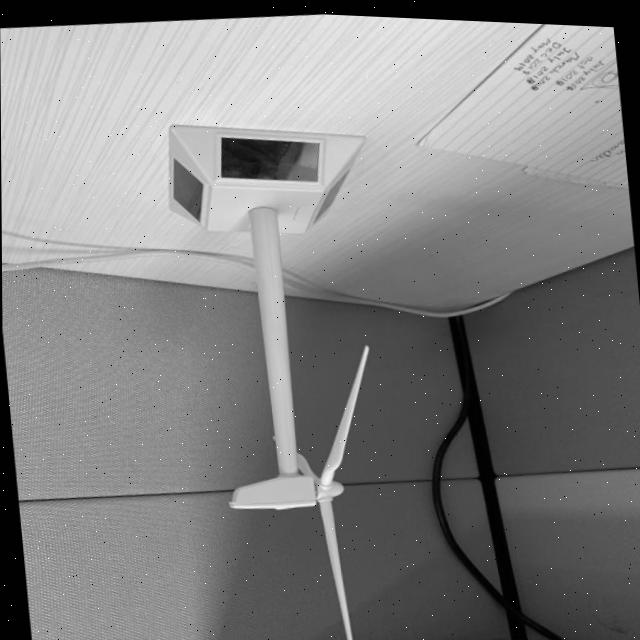solid-blade: (319, 341, 367, 482), (319, 497, 353, 640)
